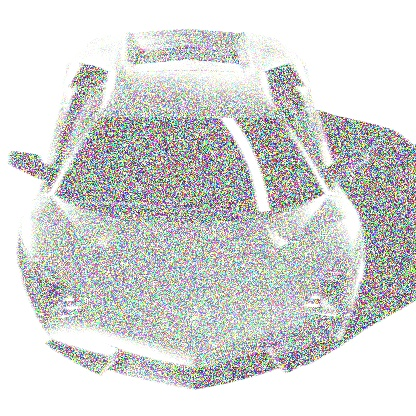Vehicle: (6, 28, 368, 381)
